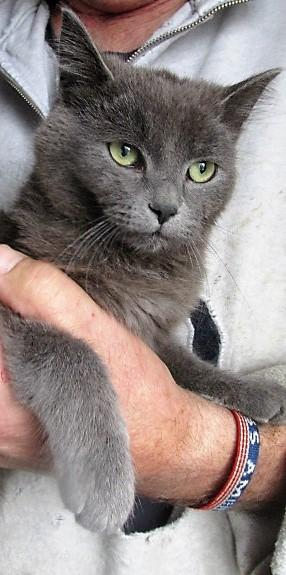rblue: (27, 5, 286, 254)
